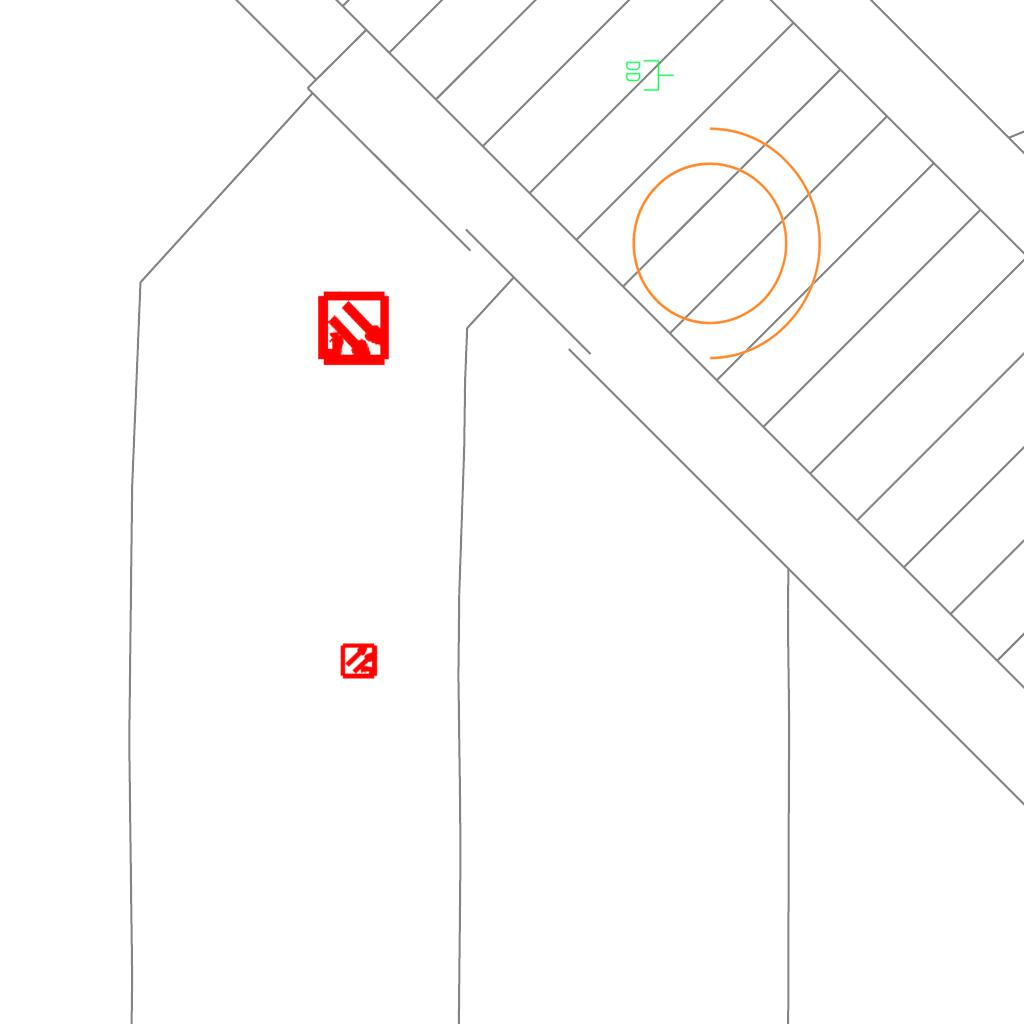Datenanschluss_zweifach: (624, 58, 675, 92)
OT_Multisensormelder_(Kombination_RMO_WMD): (297, 274, 410, 387), (332, 633, 388, 689)
Scheinwerfer_fuer_Alarmbeleuchtung: (607, 105, 832, 369)
